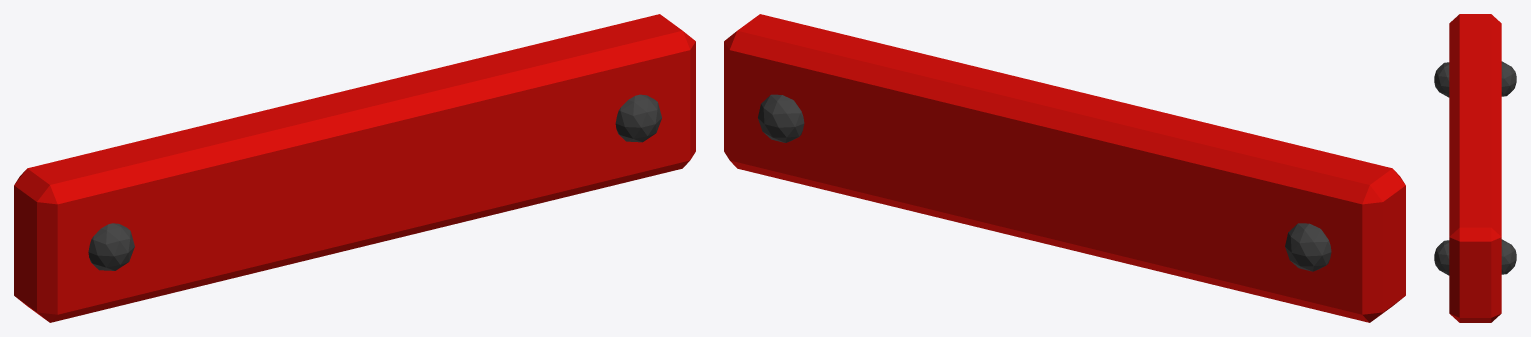
File: BarIC.fbx
The picture shows the model from 3 angles, left to right: view 1: azimuth 30°, elevation 25°; view 2: azimuth 150°, elevation 25°; view 3: azimuth 270°, elevation 25°; orthographic projection. The views are drawn at different scales.
Visible parts, largest first — view 1: BarIC; view 2: BarIC; view 3: BarIC.
Boxes of the visible parts, x1,y1,x2,y2 form: BarIC: [14, 14, 695, 322]; BarIC: [724, 14, 1405, 322]; BarIC: [1434, 14, 1516, 322].
Size of the model in its own units: 1000 by 200 by 157.
